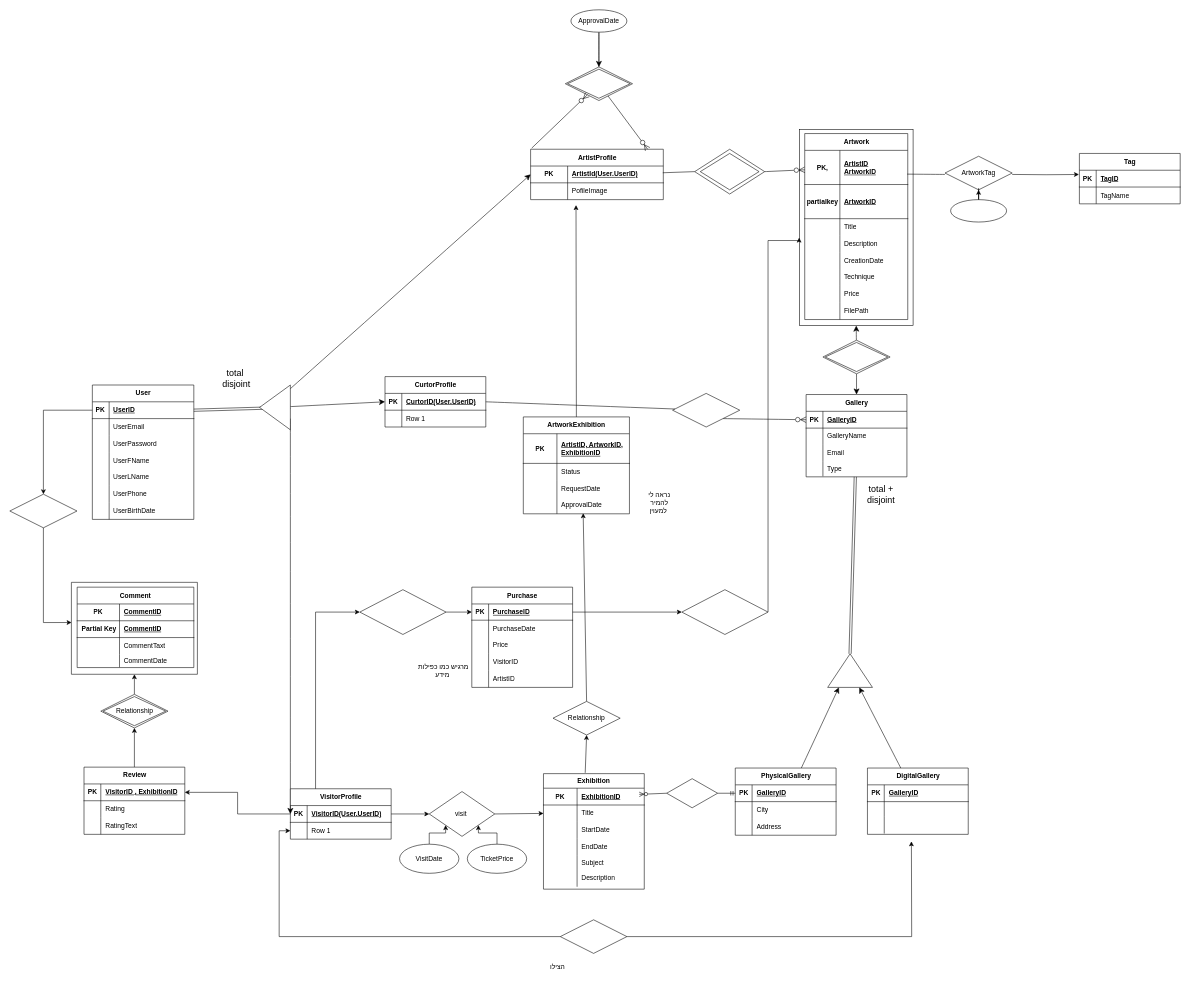
Some shapes in this 1190 by 986 pixel diagram are drawn without their labels. Each missing label, with the centre of its shape:
"Add" belongs at (x=43, y=511).
"ArtworkGallery" belongs at (x=856, y=357).
"created" belongs at (x=729, y=171).
"display" belongs at (x=692, y=793).
"follows" belongs at (x=599, y=83).
"intersted in" belongs at (x=724, y=611).
"Likes" belongs at (x=593, y=936).
"owns" belongs at (x=706, y=410).
"RelevanceLevel" belongs at (x=978, y=210).
"want to" belongs at (x=402, y=611).
